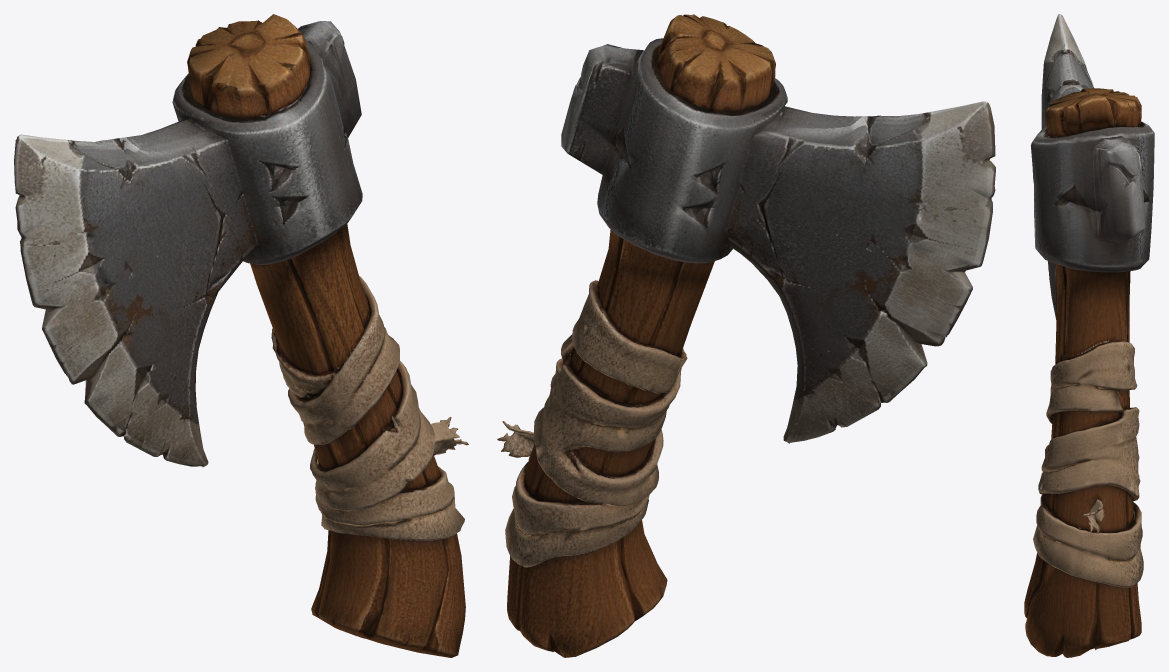
The model's file is shabby_axe.fbx.
The picture shows the model from 3 angles, left to right: view 1: azimuth 30°, elevation 25°; view 2: azimuth 150°, elevation 25°; view 3: azimuth 270°, elevation 25°; orthographic projection. The views are drawn at different scales.
Visible parts, largest first — view 1: tripo_node_083c8462; view 2: tripo_node_083c8462; view 3: tripo_node_083c8462.
Boxes of the visible parts, left/top/right/bottom form: tripo_node_083c8462: left=14, top=14, right=468, bottom=657; tripo_node_083c8462: left=497, top=14, right=995, bottom=657; tripo_node_083c8462: left=1024, top=14, right=1154, bottom=657.
Size of the model in its own units: 0.7598 by 0.998 by 0.2324.
1 material, 1 textured.
